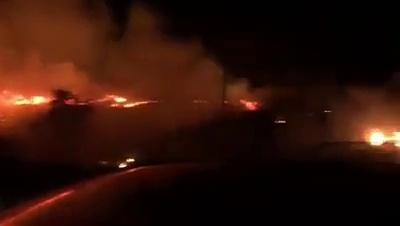smoke: (6, 15, 98, 81)
